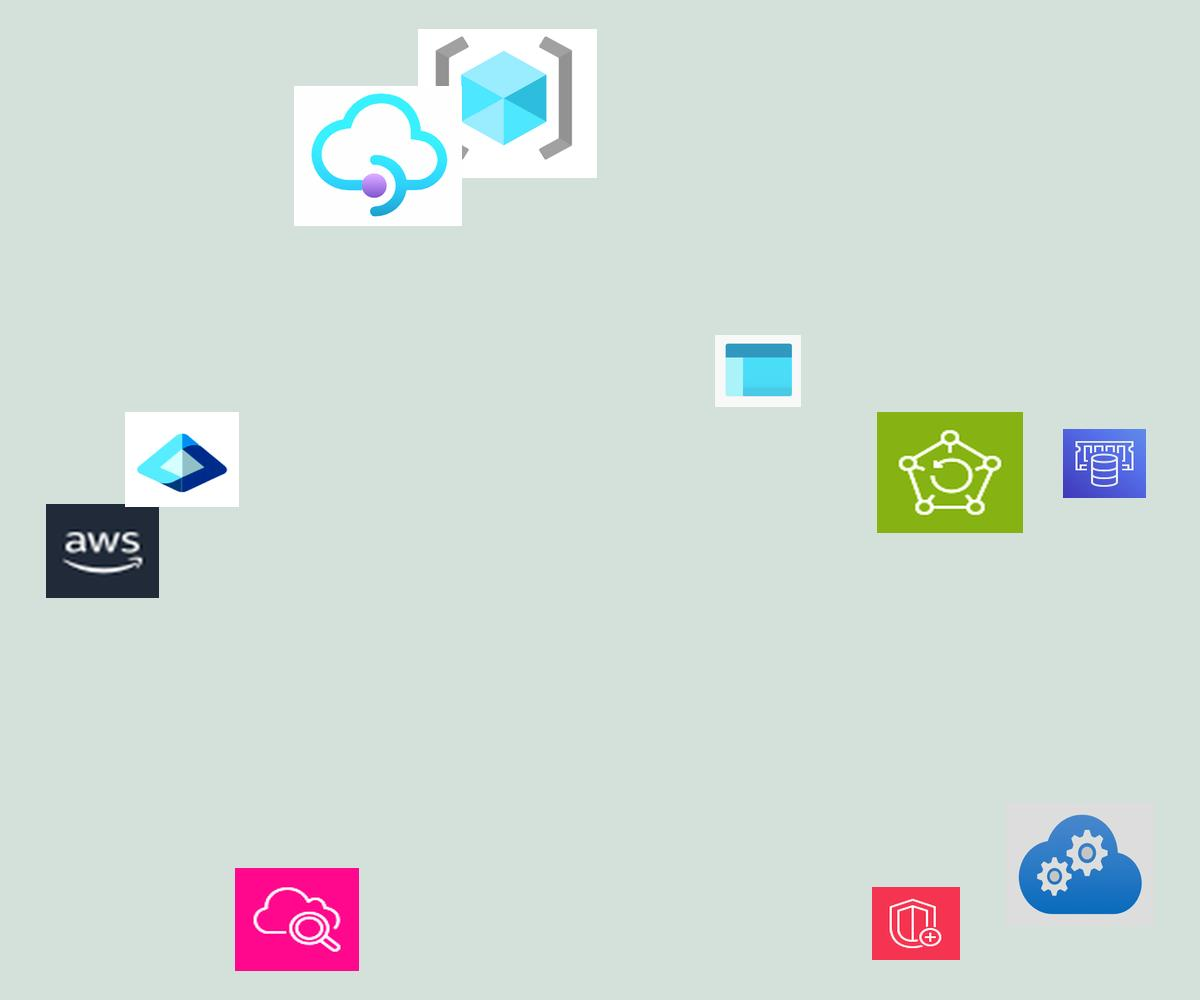AWS-Backup: (877, 412, 1023, 533)
AWS-Cloud-logo: (46, 504, 159, 598)
AWS-CloudWatch: (235, 868, 359, 971)
AWS-ElastiCache: (1063, 429, 1146, 498)
AWS-Shield: (872, 887, 960, 960)
Azure_api_gateway: (294, 86, 462, 226)
Azure_cloud_services: (1006, 803, 1154, 926)
Azure_management-portal: (715, 335, 801, 407)
Azure_microsoft_entra: (125, 412, 239, 507)
Azure_resource_group: (418, 29, 597, 178)
